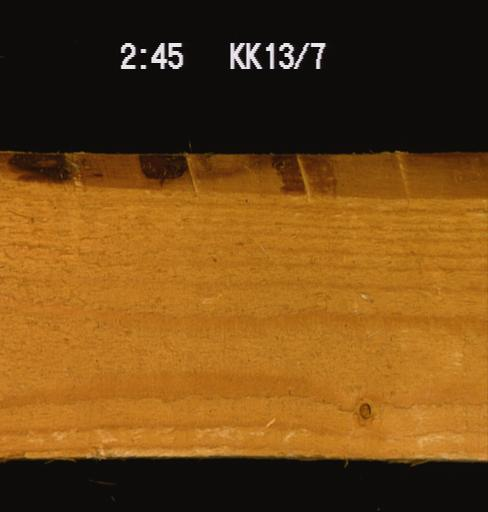dry_knot: (354, 398, 373, 419)
wave: (0, 152, 487, 199)
